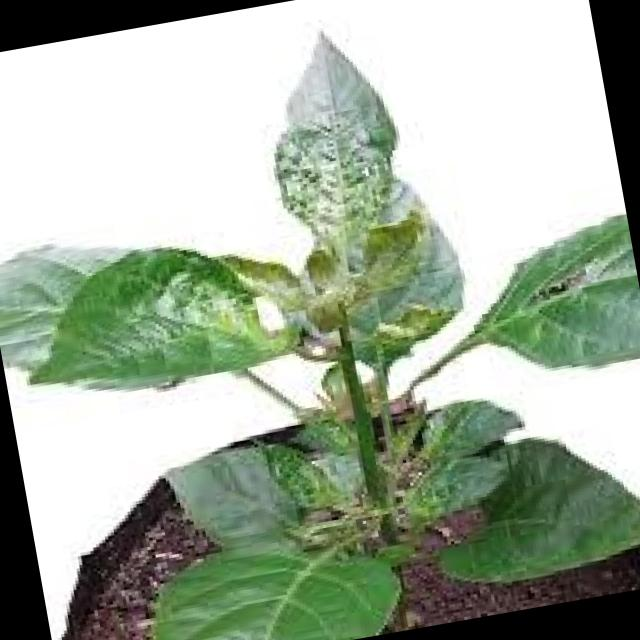Chilli_Leaf_Curl: (0, 0, 640, 640), (0, 200, 304, 414), (247, 18, 419, 270), (412, 414, 640, 594), (26, 464, 237, 640), (128, 513, 407, 640), (458, 208, 640, 385)
